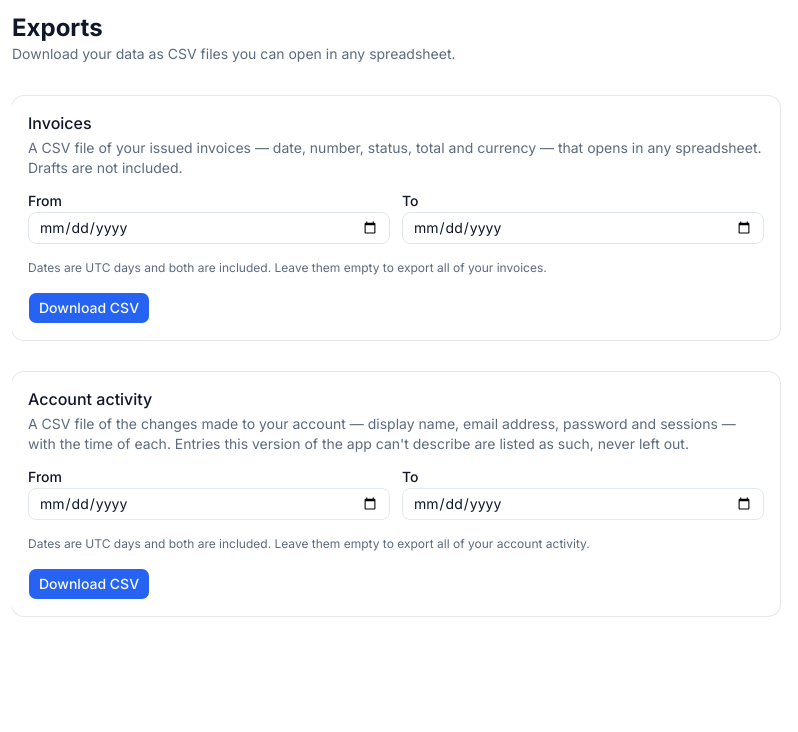
Test case: /exports – the two exports work independently › lets each card start again on its own after a failure
Click the 2nd button "Download CSV": click(89, 584) [28,568,150,600]
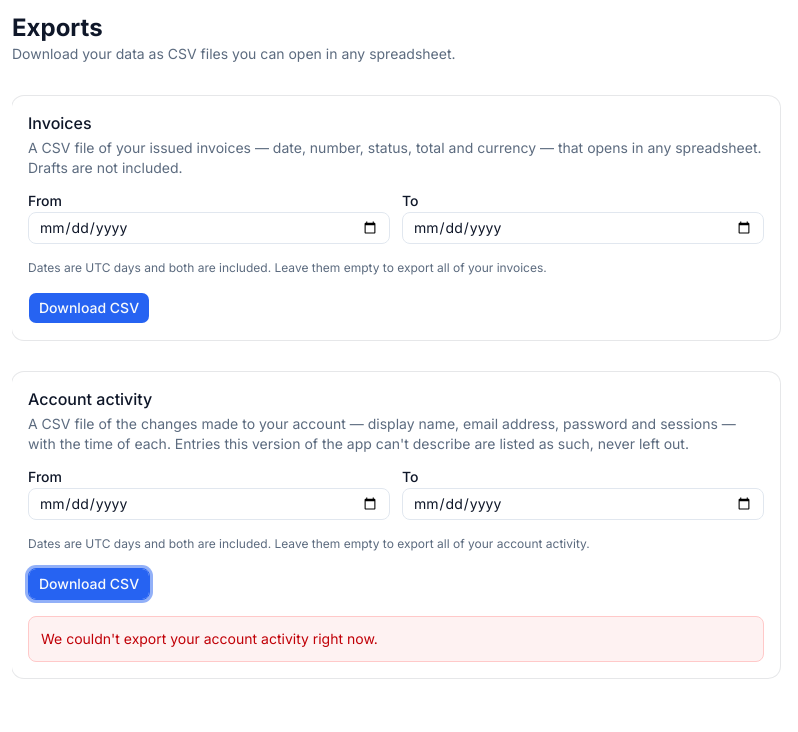
Now the message "We couldn't export your account activity right now." is shown, box [28,616,764,662]
Click the 1st button "Download CSV": click(89, 308) [28,292,150,324]
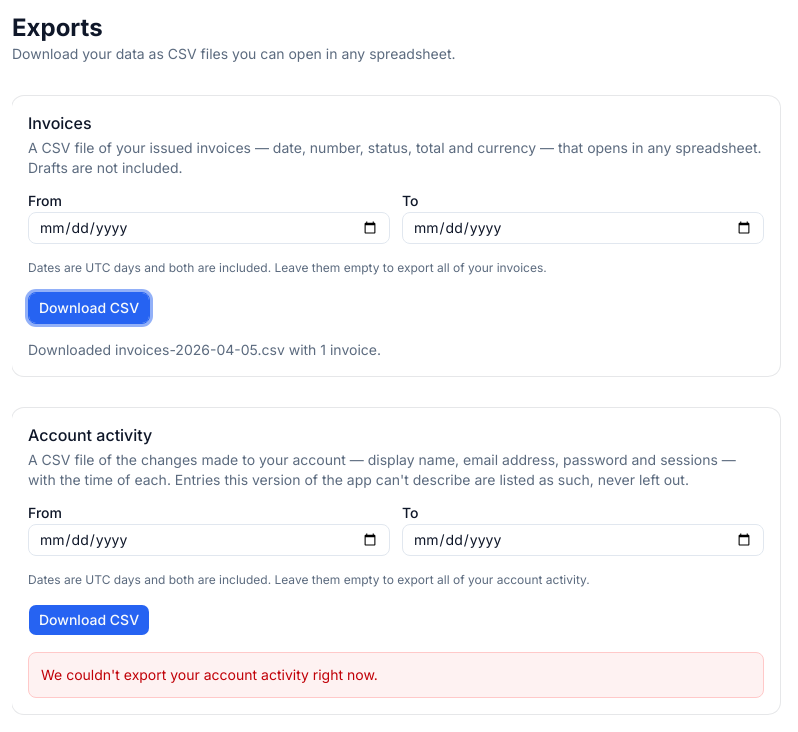
Now the message "We couldn't export your account activity right now." is shown, box [28,652,764,698]
Click the 2nd button "Download CSV": click(89, 620) [28,604,150,636]
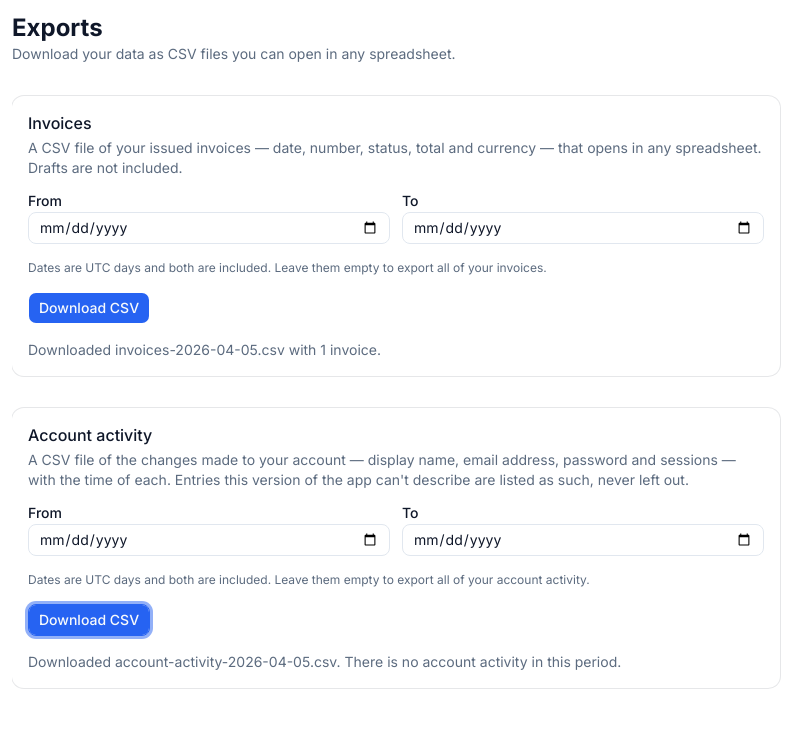
Now the 2nd message shows "Downloaded account-activity-2026-04-05.csv. There is no account activity in this period.", box [28,653,621,670]
